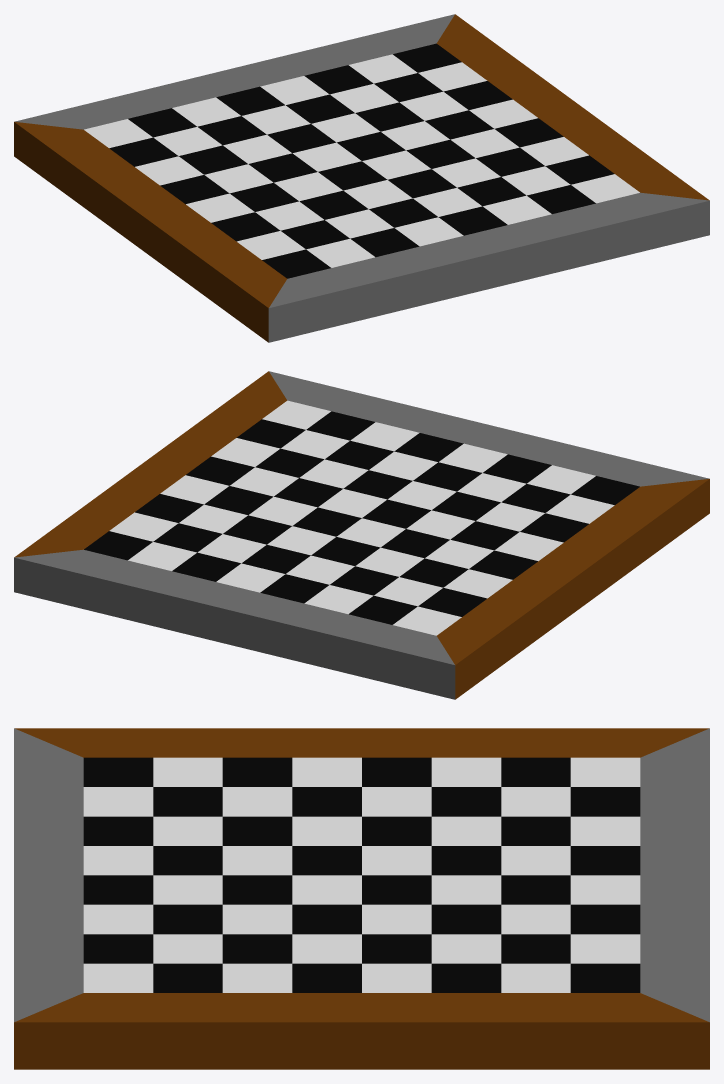
Rendered from Chess_Board.fbx.
3 views of the same model, one above another, from view 1: azimuth 30°, elevation 25°; view 2: azimuth 150°, elevation 25°; view 3: azimuth 270°, elevation 25° (orthographic). The views are drawn at different scales.
Parts seen in each view (by area): view 1: Plane; view 2: Plane; view 3: Plane.
Part boxes in pixels (left/top/right/bottom): Plane: left=14, top=14, right=709, bottom=342; Plane: left=14, top=371, right=709, bottom=699; Plane: left=14, top=728, right=709, bottom=1069.
Bounding box in the file's own units: 20 × 1.5 × 20.
